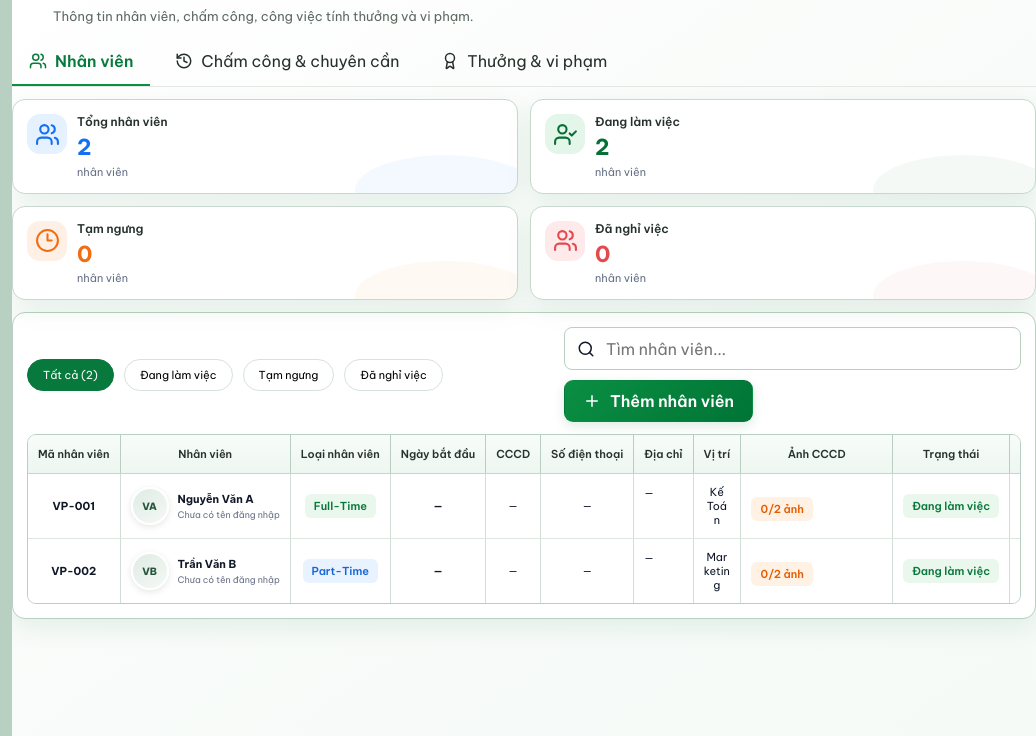
Test case: OfficeManagement attendance-only workspace › shows full 24-hour attendance history, locations, shifts, tags, and punctuality totals
Step 1. Click the button "Chấm công & chuyên cần" → (287, 62), box [158, 38, 416, 86]
(page scrolled)
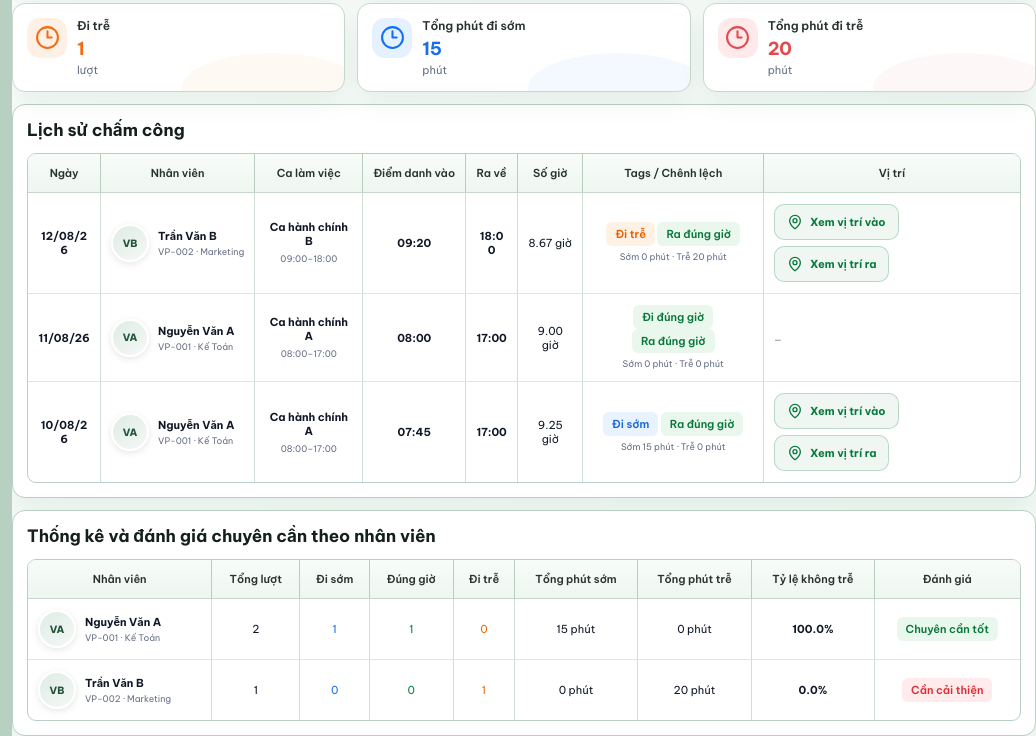
Check: the text "Ca hành chính A" is shown 2 times, box [270, 315, 348, 343]; [270, 410, 348, 438]
Check: the text "08:00–17:00" below "11/08/26" is shown, box [281, 348, 337, 359]
Check: the text "07:45" is shown, box [398, 425, 431, 439]
